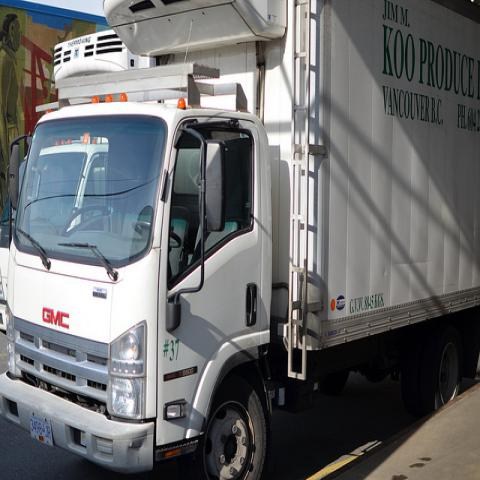truck: (2, 2, 480, 476)
